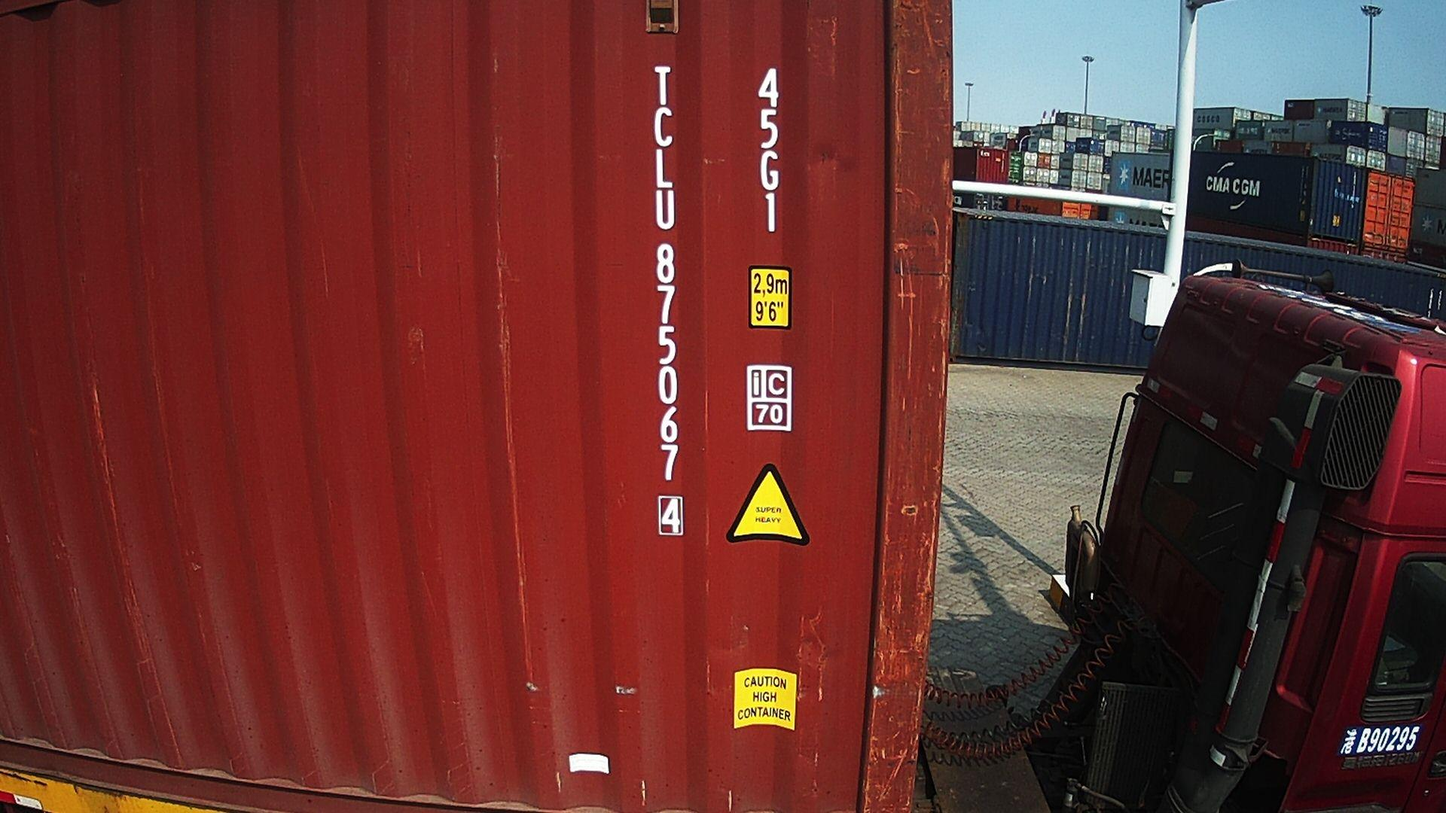container-numbers: (647, 59, 686, 544), (752, 62, 786, 236)
